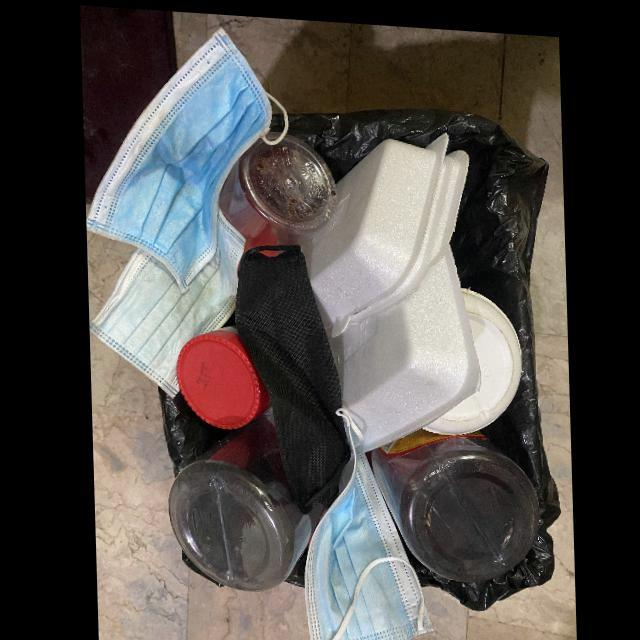plastic_container: (166, 407, 309, 589), (370, 423, 538, 577), (217, 131, 336, 250), (174, 327, 269, 428)
